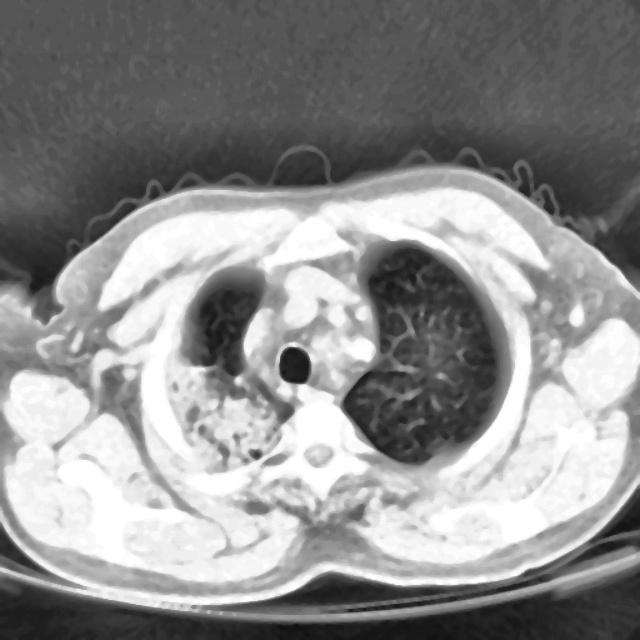covid: (0, 159, 639, 605)
